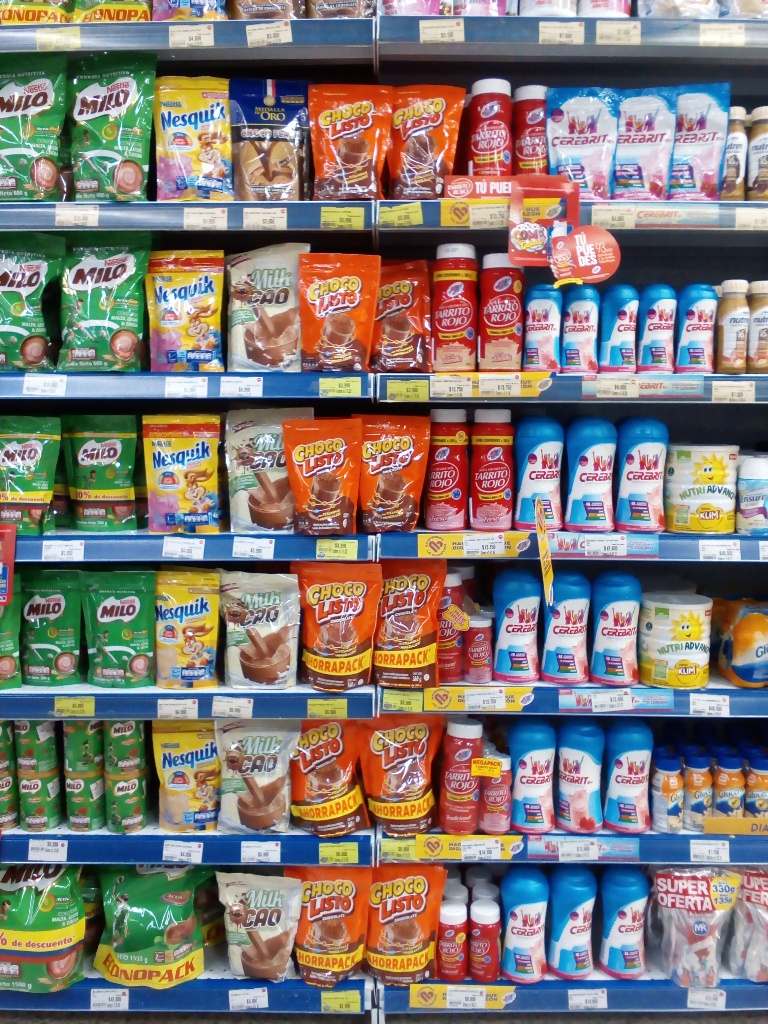COL0170103DYP20000: (275, 412, 362, 540)
COL0170103DYP36000: (295, 562, 383, 691)
COL0170103DYP44000: (284, 865, 369, 986)
COL0170203DYP25000: (78, 564, 158, 690)
COL0170203LAT20000: (108, 720, 147, 774)
COL0170305DYP20000: (140, 70, 239, 200)
COL0170306DYP20000: (149, 567, 223, 687)
